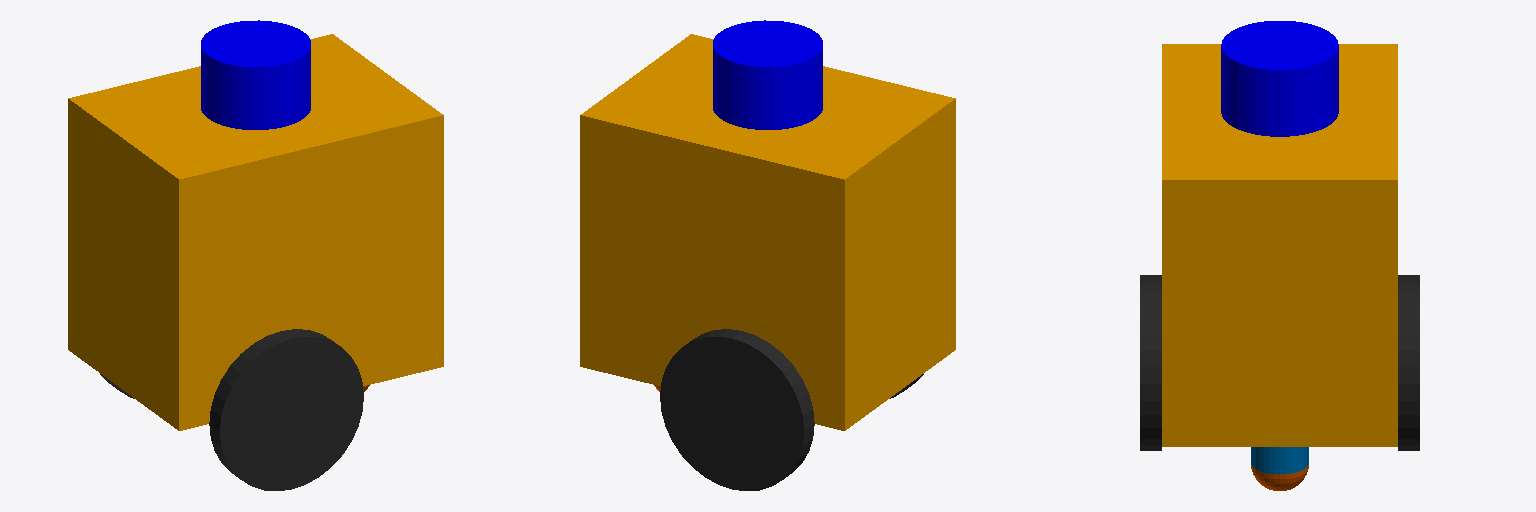
URDF robot description (two_wheeled_robot):
<robot name="two_wheeled_robot">
  <!-- Base Link -->
  <link name="base_link">
    <visual>
      <geometry>
        <box size="0.11 0.08 0.1"/>
      </geometry>
    </visual>
    <collision>
      <geometry>
        <box size="0.12 0.08 0.1"/>
      </geometry>
    </collision>
    <inertial>
      <mass value="1"/>
      <inertia ixx="0.001" ixy="0.0" ixz="0.0" iyy="0.001" iyz="0.0" izz="0.001"/>
    </inertial>
  </link>
  <!-- LIDAR Link -->
  <link name="lidar">
    <visual>
      <geometry>
        <cylinder radius="0.02" length="0.025"/>
      </geometry>
      <origin rpy="0 0 0" xyz="0 0 0"/>
      <material name="blue">
        <color rgba="0 0 1 1"/>
      </material>
    </visual>
    <collision>
      <geometry>
        <cylinder radius="0.02" length="0.025"/>
      </geometry>
    </collision>
    <inertial>
      <mass value="0.1"/>
      <inertia ixx="0.0001" ixy="0.0" ixz="0.0" iyy="0.0001" iyz="0.0" izz="0.0001"/>
    </inertial>
  </link>
  <!-- Wheel Links -->
  <link name="left_wheel">
    <visual>
      <geometry>
        <cylinder radius="0.03" length="0.0075"/>
      </geometry>
      <material name="black"/>
    </visual>
    <collision>
      <geometry>
        <cylinder radius="0.03" length="0.0075"/>
      </geometry>
    </collision>
    <inertial>
      <mass value="0.1"/>
      <inertia ixx="0.0001" ixy="0.0" ixz="0.0" iyy="0.0001" iyz="0.0" izz="0.0001"/>
    </inertial>
  </link>
  <link name="right_wheel">
    <visual>
      <geometry>
        <cylinder radius="0.03" length="0.0075"/>
      </geometry>
      <material name="black">
        <color rgba="0.2 0.2 0.2 1"/>
      </material>
    </visual>
    <collision>
      <geometry>
        <cylinder radius="0.03" length="0.075"/>
      </geometry>
    </collision>
    <inertial>
      <mass value="0.1"/>
      <inertia ixx="0.0001" ixy="0.0" ixz="0.0" iyy="0.0001" iyz="0.0" izz="0.0001"/>
    </inertial>
  </link>
  <!--Caster Cylinder Link-->
  <link name="caster_cylinder">
    <visual>
      <geometry>
        <cylinder radius="0.01" length="0.025"/>
      </geometry>
    </visual>
    <collision>
      <geometry>
        <cylinder radius="0.01" length="0.025"/>
      </geometry>
    </collision>
    <inertial>
      <mass value="0.05"/>
      <inertia ixx="0.001" ixy="0.0001" ixz="0.0" iyy="0.0" iyz="0.0" izz="0.0"/>
    </inertial>
  </link>
  <!-- Caster Link -->
  <link name="caster">
    <visual>
      <geometry>
        <sphere radius="0.01"/>
      </geometry>
    </visual>
    <collision>
      <geometry>
        <sphere radius="0.01"/>
      </geometry>
    </collision>
    <inertial>
      <mass value="0.05"/>
      <inertia ixx="0.0000125" ixy="0.0" ixz="0.0" iyy="0.0000125" iyz="0.0" izz="0.0000125"/>
    </inertial>
  </link>
  <!-- Joint Definitions -->
  <!-- LIDAR Joint -->
  <joint name="lidar_joint" type="fixed">
    <parent link="base_link"/>
    <child link="lidar"/>
    <origin xyz="0 0 0.0625" rpy="0 0 0"/>
  </joint>
  <joint name="left_wheel_joint" type="continuous">
    <parent link="base_link"/>
    <child link="left_wheel"/>
    <origin xyz="-0.0125 -0.04375 -0.05" rpy="1.57075 0 0"/>
    <axis xyz="0 1 0"/>
  </joint>
  <joint name="right_wheel_joint" type="continuous">
    <parent link="base_link"/>
    <child link="right_wheel"/>
    <origin xyz="-0.0125 0.04375 -0.05" rpy="1.57075 0 0"/>
    <axis xyz="0 1 0"/>
  </joint>
  <joint name="cylinder_joint" type="fixed">
    <parent link="base_link"/>
    <child link="caster_cylinder"/>
    <origin xyz="0.0375 0 -0.05125" rpy="0 0 0"/>
    <axis xyz="0 1 0"/>
  </joint>
  <joint name="caster_joint" type="floating">
    <parent link="caster_cylinder"/>
    <child link="caster"/>
    <origin xyz="0 0 -0.0125" rpy="0 0 0"/>
  </joint>
</robot>

--- Facts derived from the render (not from the file) ---
Views: 3 orthographic renders of the robot side by side, from view 1: azimuth 30°, elevation 25°; view 2: azimuth 150°, elevation 25°; view 3: azimuth 270°, elevation 25°.
Model two_wheeled_robot with 6 links and 5 joints (2 continuous, 2 fixed, 1 floating), rooted at base_link, posed all joints at 0.
Links seen in each view (by area): view 1: base_link, left_wheel, lidar; view 2: base_link, right_wheel, lidar; view 3: base_link, lidar, left_wheel, right_wheel, caster_cylinder, caster.
Link boxes in pixels (x1,y1,x2,y2): base_link: (68,34,443,430); left_wheel: (209,329,363,490); lidar: (201,20,310,129); base_link: (580,34,955,430); right_wheel: (660,329,814,490); lidar: (713,20,822,129); base_link: (1162,44,1397,446); lidar: (1221,21,1338,136); left_wheel: (1140,275,1161,450); right_wheel: (1398,275,1419,450); caster_cylinder: (1251,447,1308,474); caster: (1251,465,1308,490).
Bounding box of the posed robot: 0.11 × 0.095 × 0.155 m (x, y, z).
Geometry: primitives only (box / cylinder / sphere), no mesh files.